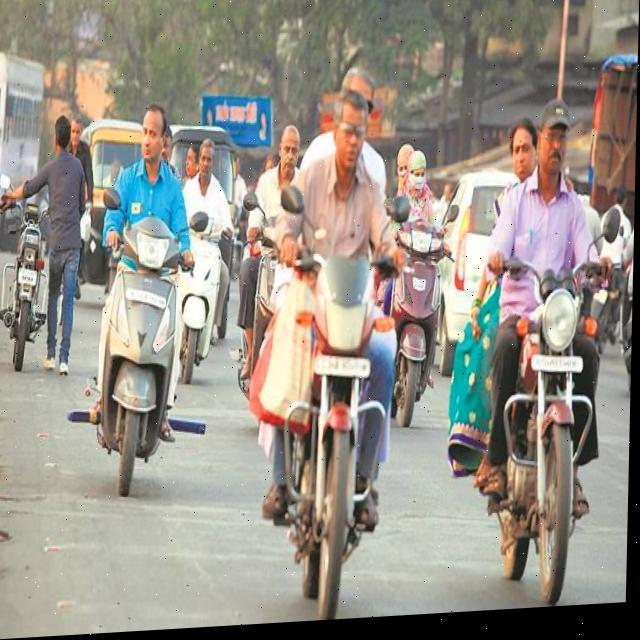without helmet: (332, 61, 381, 180), (532, 100, 573, 198), (140, 102, 170, 176), (193, 135, 217, 200)
